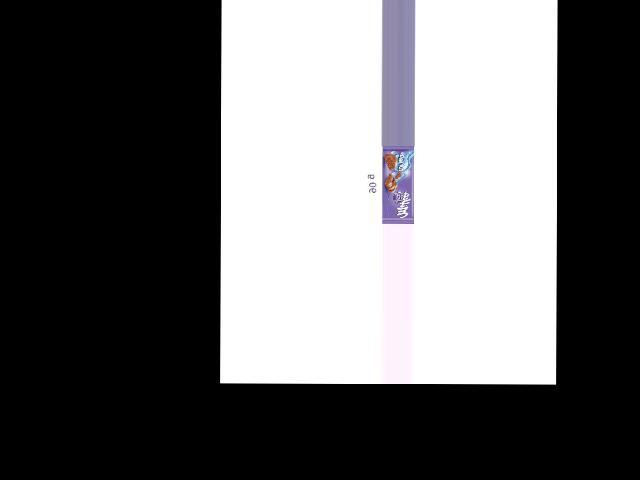chocolate: (382, 145, 414, 222)
